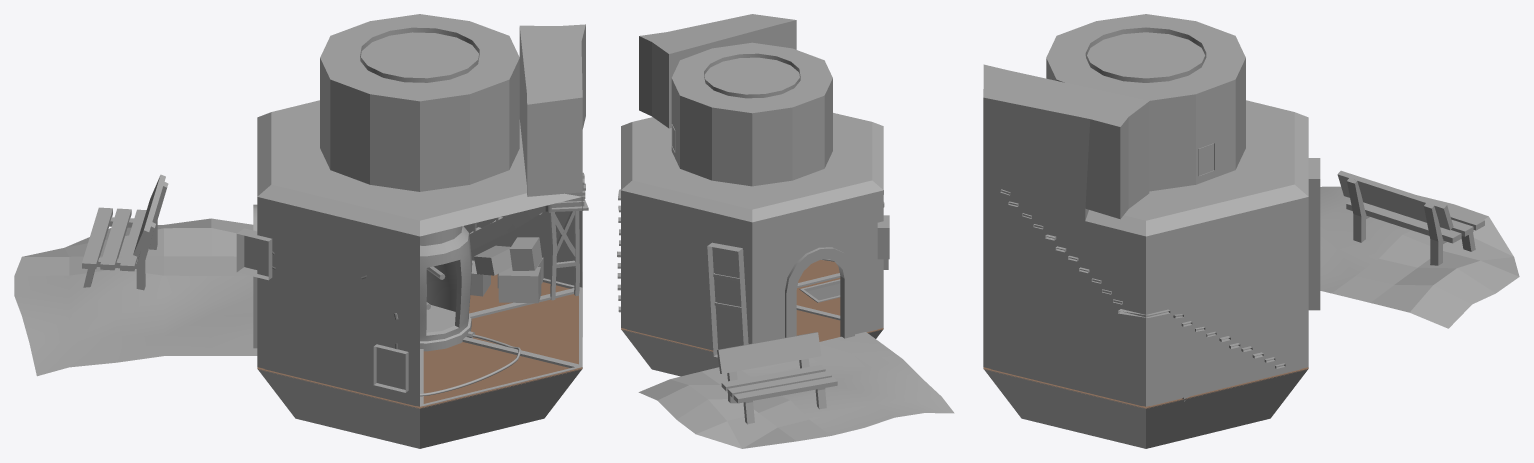
File: LightHouseIndoor_update.fbx
The picture shows the model from 3 angles, left to right: view 1: azimuth 30°, elevation 25°; view 2: azimuth 150°, elevation 25°; view 3: azimuth 270°, elevation 25°; orthographic projection. The views are drawn at different scales.
Visible parts, largest first — view 1: shell, dirt_KEEP, polySurface71, ground74, furnace, polySurface37, boxes, stair, furnaceControl; view 2: shell, dirt_KEEP, polySurface37, closet, polySurface71, doorFrame, ground74, furnace, furnaceControl; view 3: shell, dirt_KEEP, polySurface71, polySurface37, closet, furnace, stair, ground74.
Boxes of the visible parts, x1=… form: shell: x1=257, y1=14, x2=585, y2=406; dirt_KEEP: x1=14, y1=218, x2=257, y2=376; polySurface71: x1=257, y1=367, x2=582, y2=448; ground74: x1=257, y1=274, x2=582, y2=408; furnace: x1=360, y1=27, x2=479, y2=351; polySurface37: x1=82, y1=174, x2=168, y2=290; boxes: x1=470, y1=237, x2=543, y2=303; stair: x1=469, y1=172, x2=588, y2=300; furnaceControl: x1=236, y1=228, x2=520, y2=396; shell: x1=621, y1=14, x2=883, y2=350; dirt_KEEP: x1=638, y1=332, x2=954, y2=448; polySurface37: x1=717, y1=332, x2=837, y2=424; closet: x1=707, y1=242, x2=748, y2=357; polySurface71: x1=621, y1=283, x2=883, y2=376; doorFrame: x1=785, y1=247, x2=854, y2=338; ground74: x1=621, y1=259, x2=883, y2=351; furnace: x1=704, y1=53, x2=800, y2=98; furnaceControl: x1=821, y1=190, x2=889, y2=269; shell: x1=983, y1=14, x2=1308, y2=406; dirt_KEEP: x1=1320, y1=186, x2=1519, y2=328; polySurface71: x1=983, y1=367, x2=1308, y2=448; polySurface37: x1=1337, y1=170, x2=1484, y2=265; closet: x1=1308, y1=158, x2=1320, y2=310; furnace: x1=1085, y1=27, x2=1206, y2=82; stair: x1=1000, y1=189, x2=1285, y2=404; ground74: x1=983, y1=367, x2=1308, y2=408.
Bounding box in the file's own units: 73.9 × 49.41 × 71.36.
